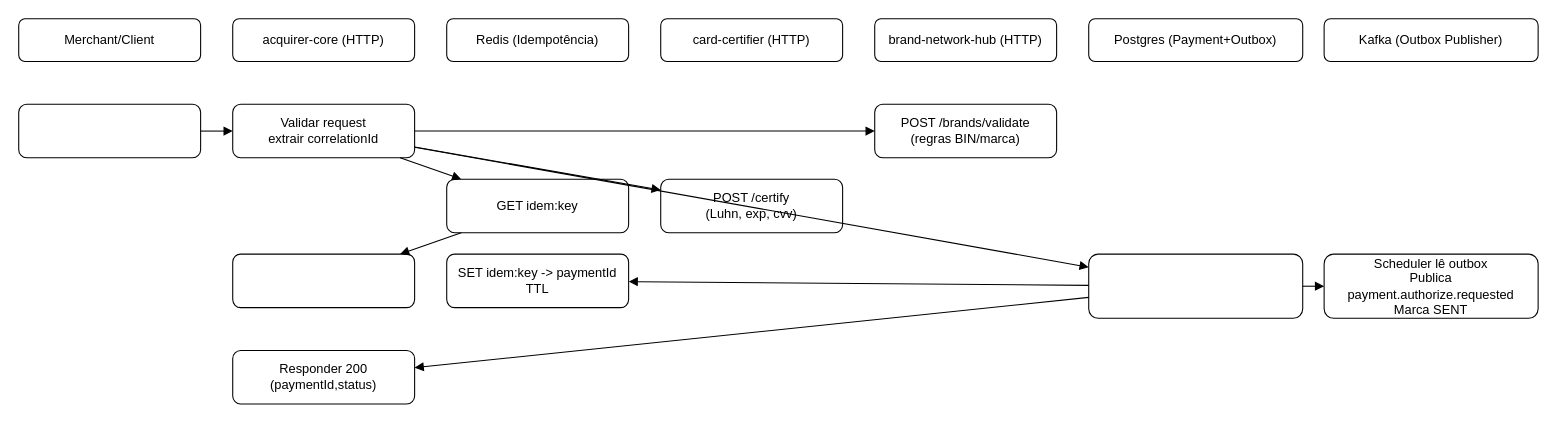
This 1557x423 diagram has some shape labels left out. Here are the shapes that lost their labels. From the top down, the box of each, then its label:
(18, 103, 201, 158): POST /payments/authorize Idempotency-Key
(232, 253, 415, 308): Se hit: buscar payment retornar 200
(1088, 253, 1303, 318): TX: salvar Payment TX: salvar OutboxEvent
